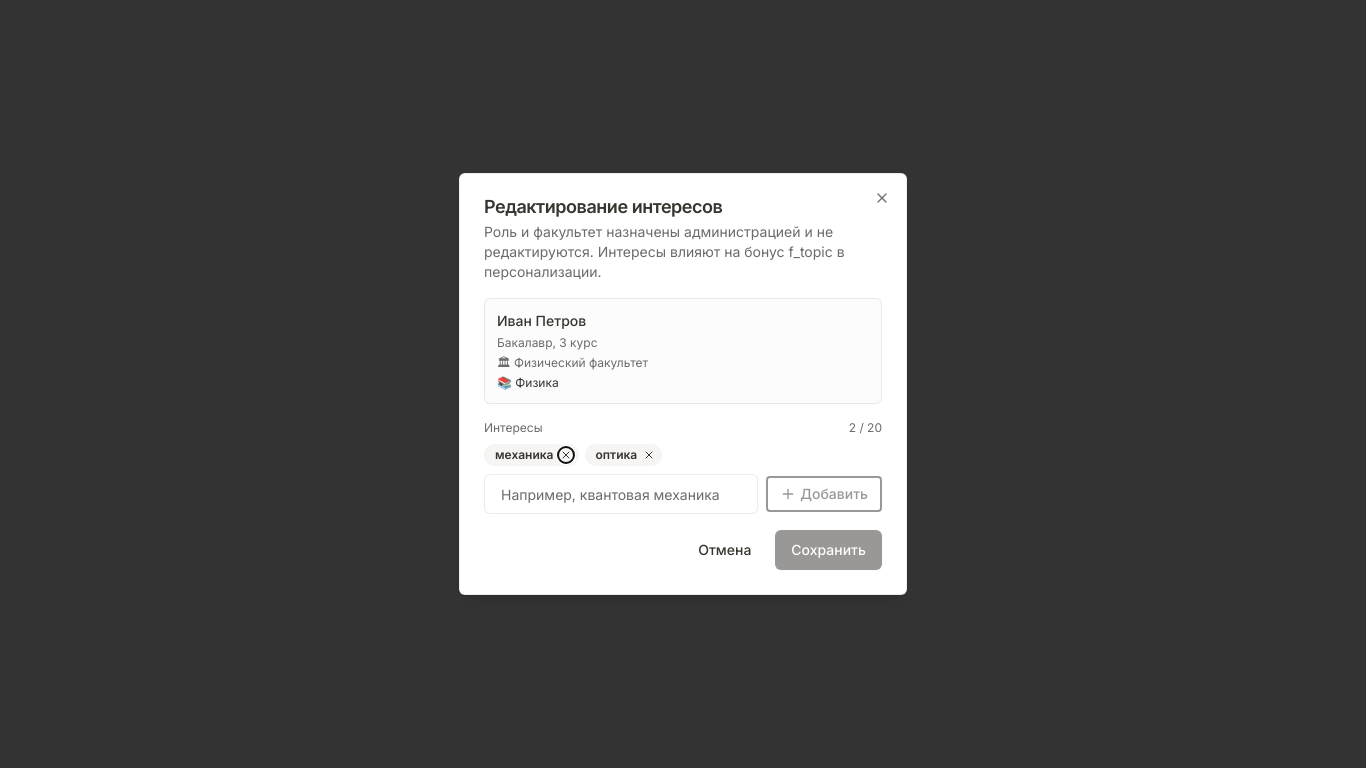
Test case: InterestsEditorDialog › disables Save until something changes
This screenshot has width=1366, height=768.
Expected: the button "Сохранить" is disabled, left=775, top=530, right=882, bottom=570
Click the button named "Удалить «оптика»" at (649, 455), box left=641, top=447, right=657, bottom=463
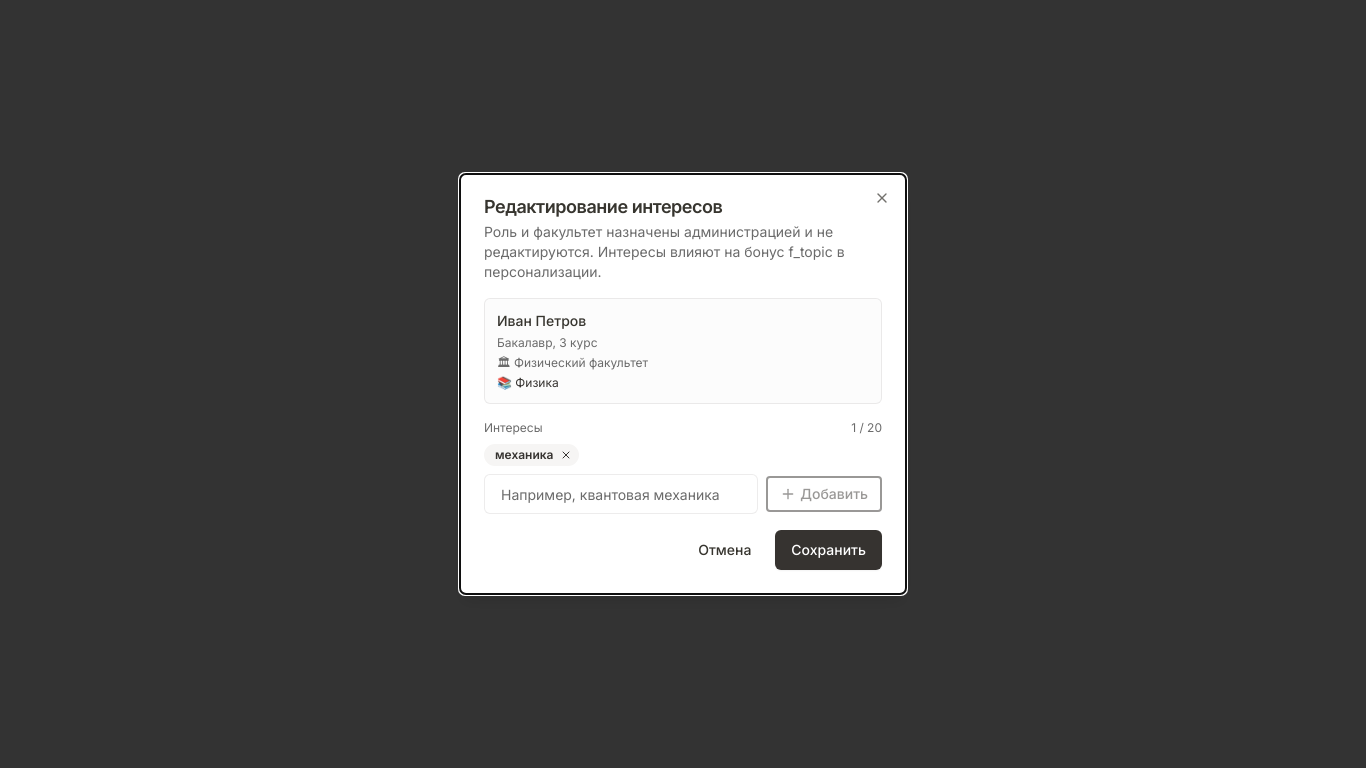
Now the button "Сохранить" is enabled, box left=775, top=530, right=882, bottom=570
